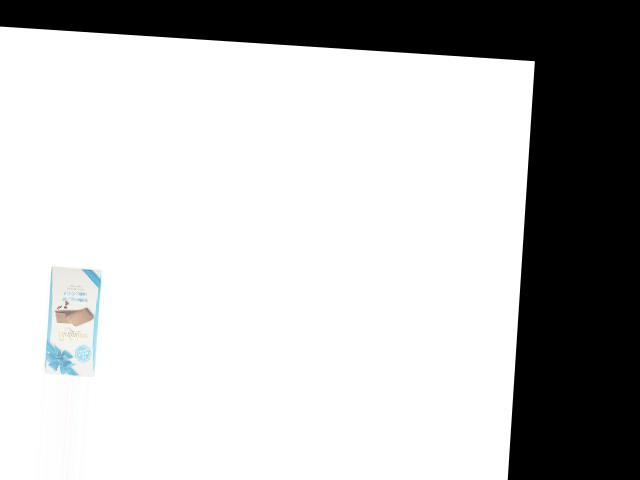chocolate: (36, 263, 106, 378)
